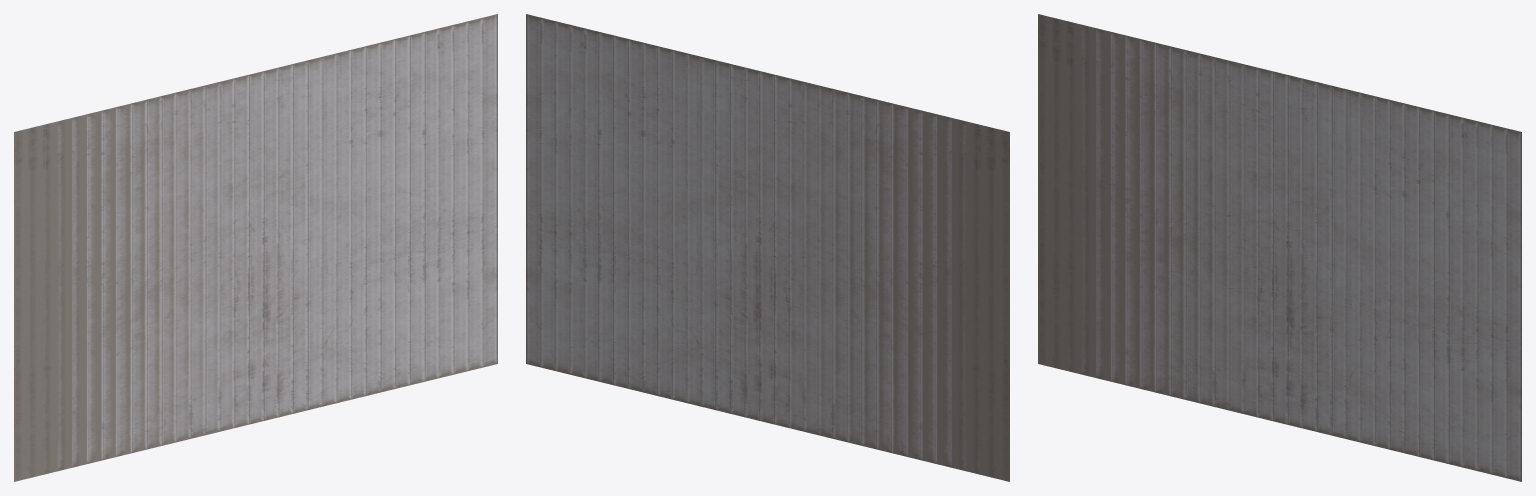
Rendered from Front_DoorTest.fbx.
The picture shows the model from 3 angles, left to right: view 1: azimuth 30°, elevation 25°; view 2: azimuth 150°, elevation 25°; view 3: azimuth 330°, elevation 25°; orthographic projection.
Parts seen in each view (by area): view 1: Rollershutter_W; view 2: Rollershutter_W; view 3: Rollershutter_W.
Part boxes in pixels (x1,y1,x2,y2): Rollershutter_W: (14,14,497,481); Rollershutter_W: (526,14,1009,481); Rollershutter_W: (1038,14,1521,481).
Size of the model in its own units: 399 by 276 by 0.000159.
